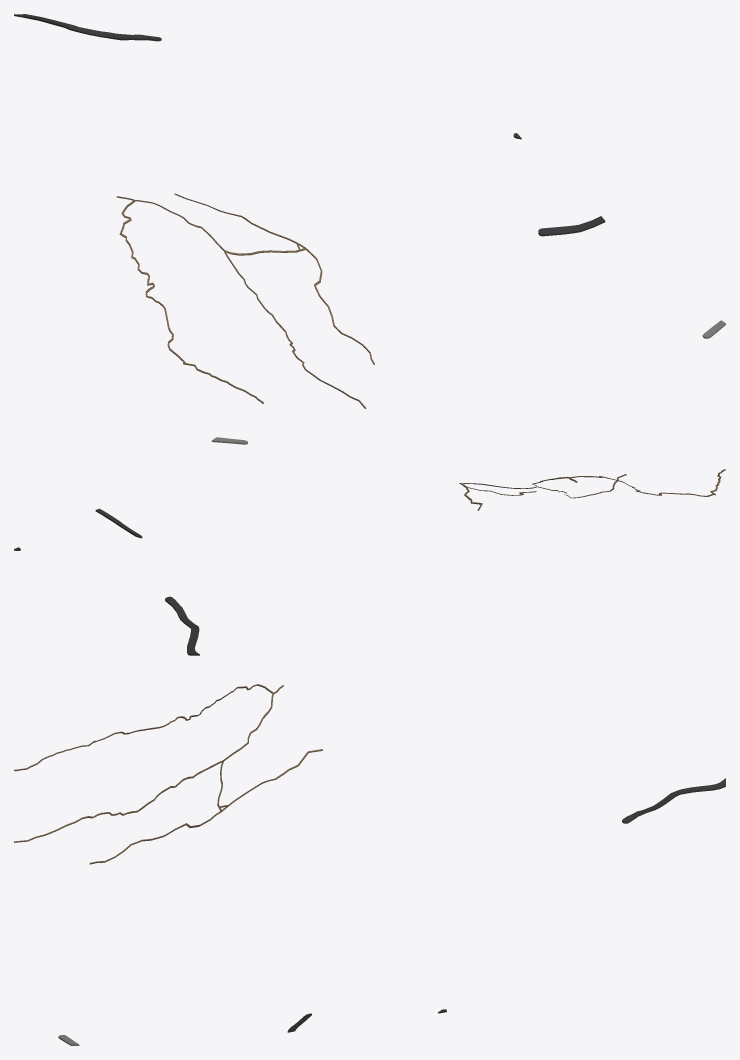
Rendered from 16-54714-29733.affd7ec5.glb.
3 views of the same model, one above another, from view 1: azimuth 30°, elevation 25°; view 2: azimuth 150°, elevation 25°; view 3: azimuth 270°, elevation 25° (orthographic). The views are drawn at different scales.
Bounding box in the file's own units: 453 × 134 × 583.
